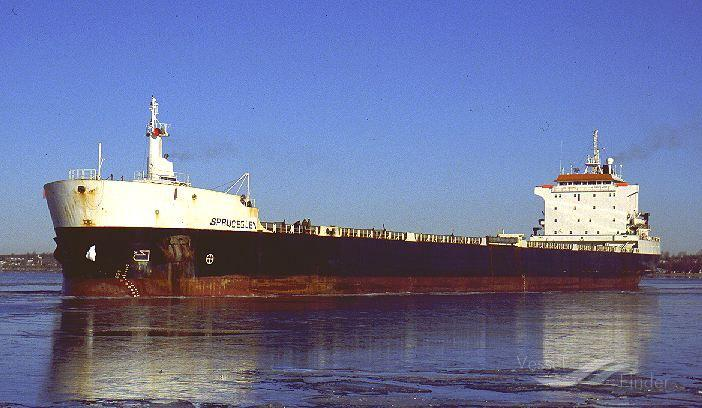OCR: (210, 210, 257, 230)
